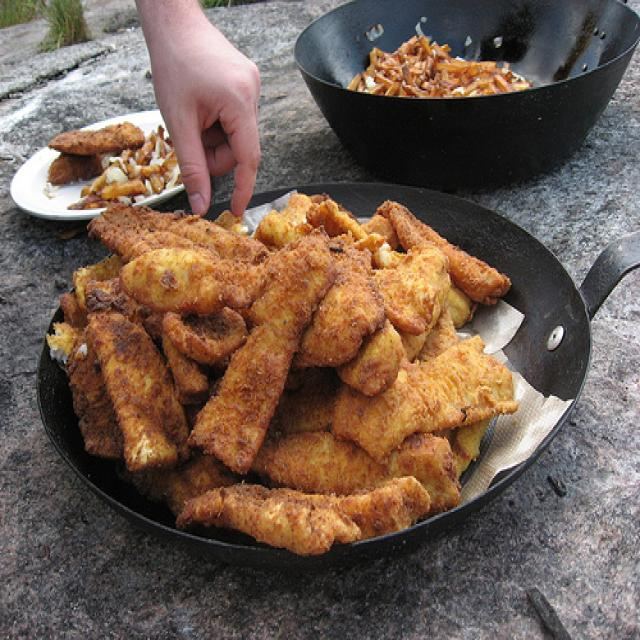炸货点心: (32, 205, 545, 551)
熟制海鲜: (32, 205, 545, 551)
